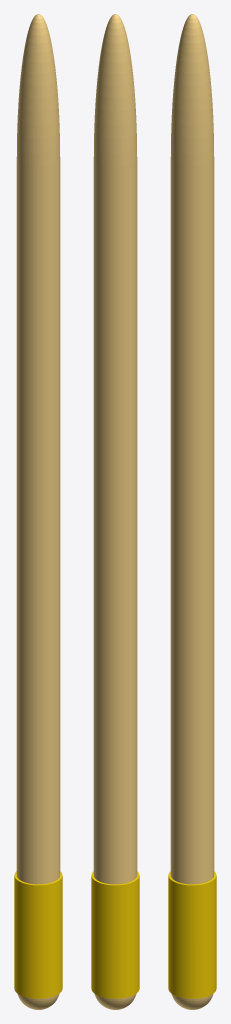
Rendered from mechhhh222.fbx.
3 views of the same model, side by side, from view 1: azimuth 90°, elevation 25°; view 2: azimuth 150°, elevation 25°; view 3: azimuth 270°, elevation 25° (orthographic).
Parts seen in each view (by area): view 1: Sphere.004; view 2: Sphere.004; view 3: Sphere.004.
Boxes of the visible parts, box(x1,y1,x2,y2) form: Sphere.004: box(14, 14, 62, 1009); Sphere.004: box(91, 14, 139, 1009); Sphere.004: box(168, 14, 216, 1009).
Bounding box in the file's own units: 34.57 × 789 × 34.57.
